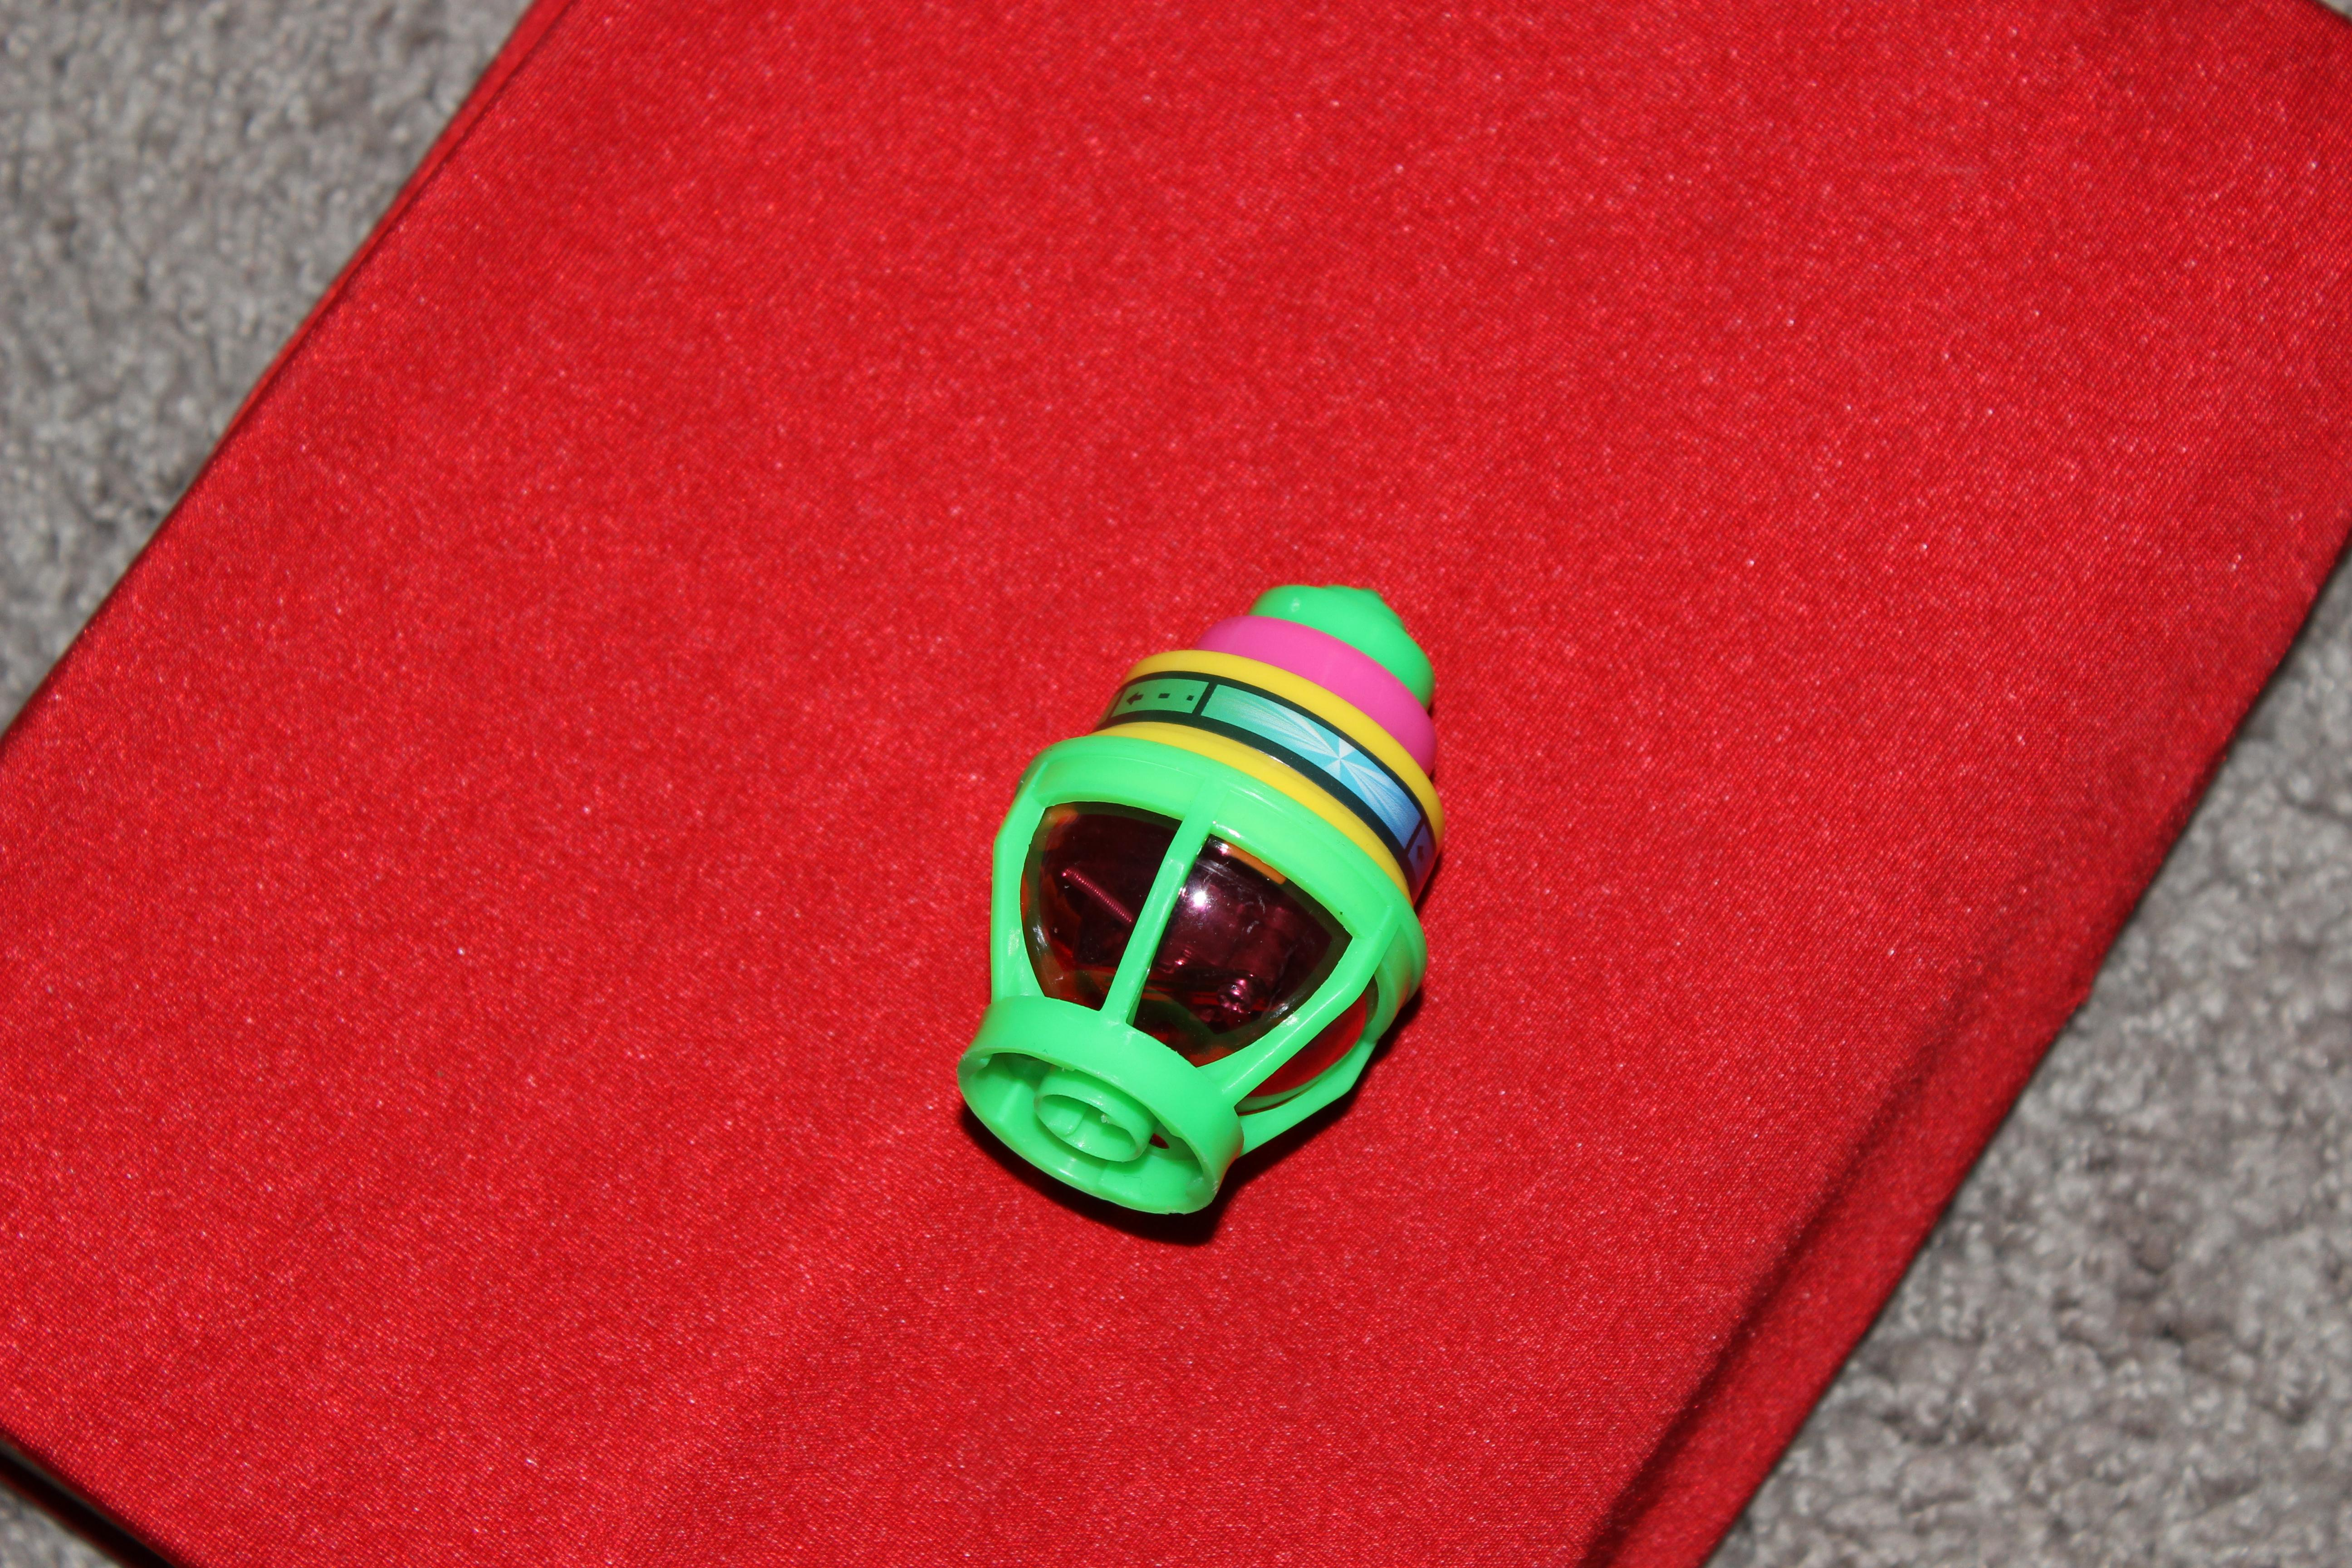gyroscope: (917, 562, 1494, 1274)
